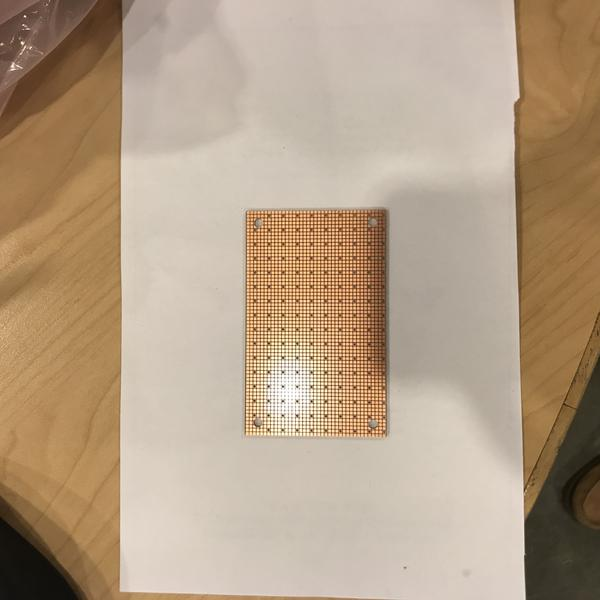board: (244, 207, 390, 439)
